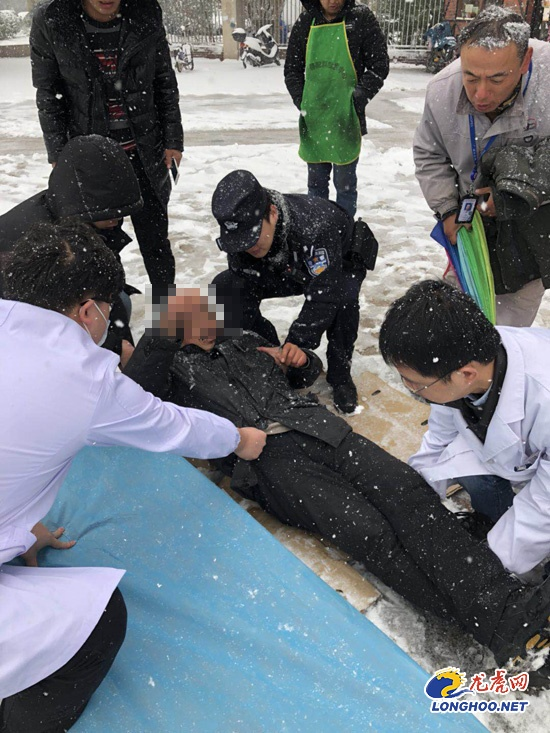falling: (167, 279, 548, 699)
